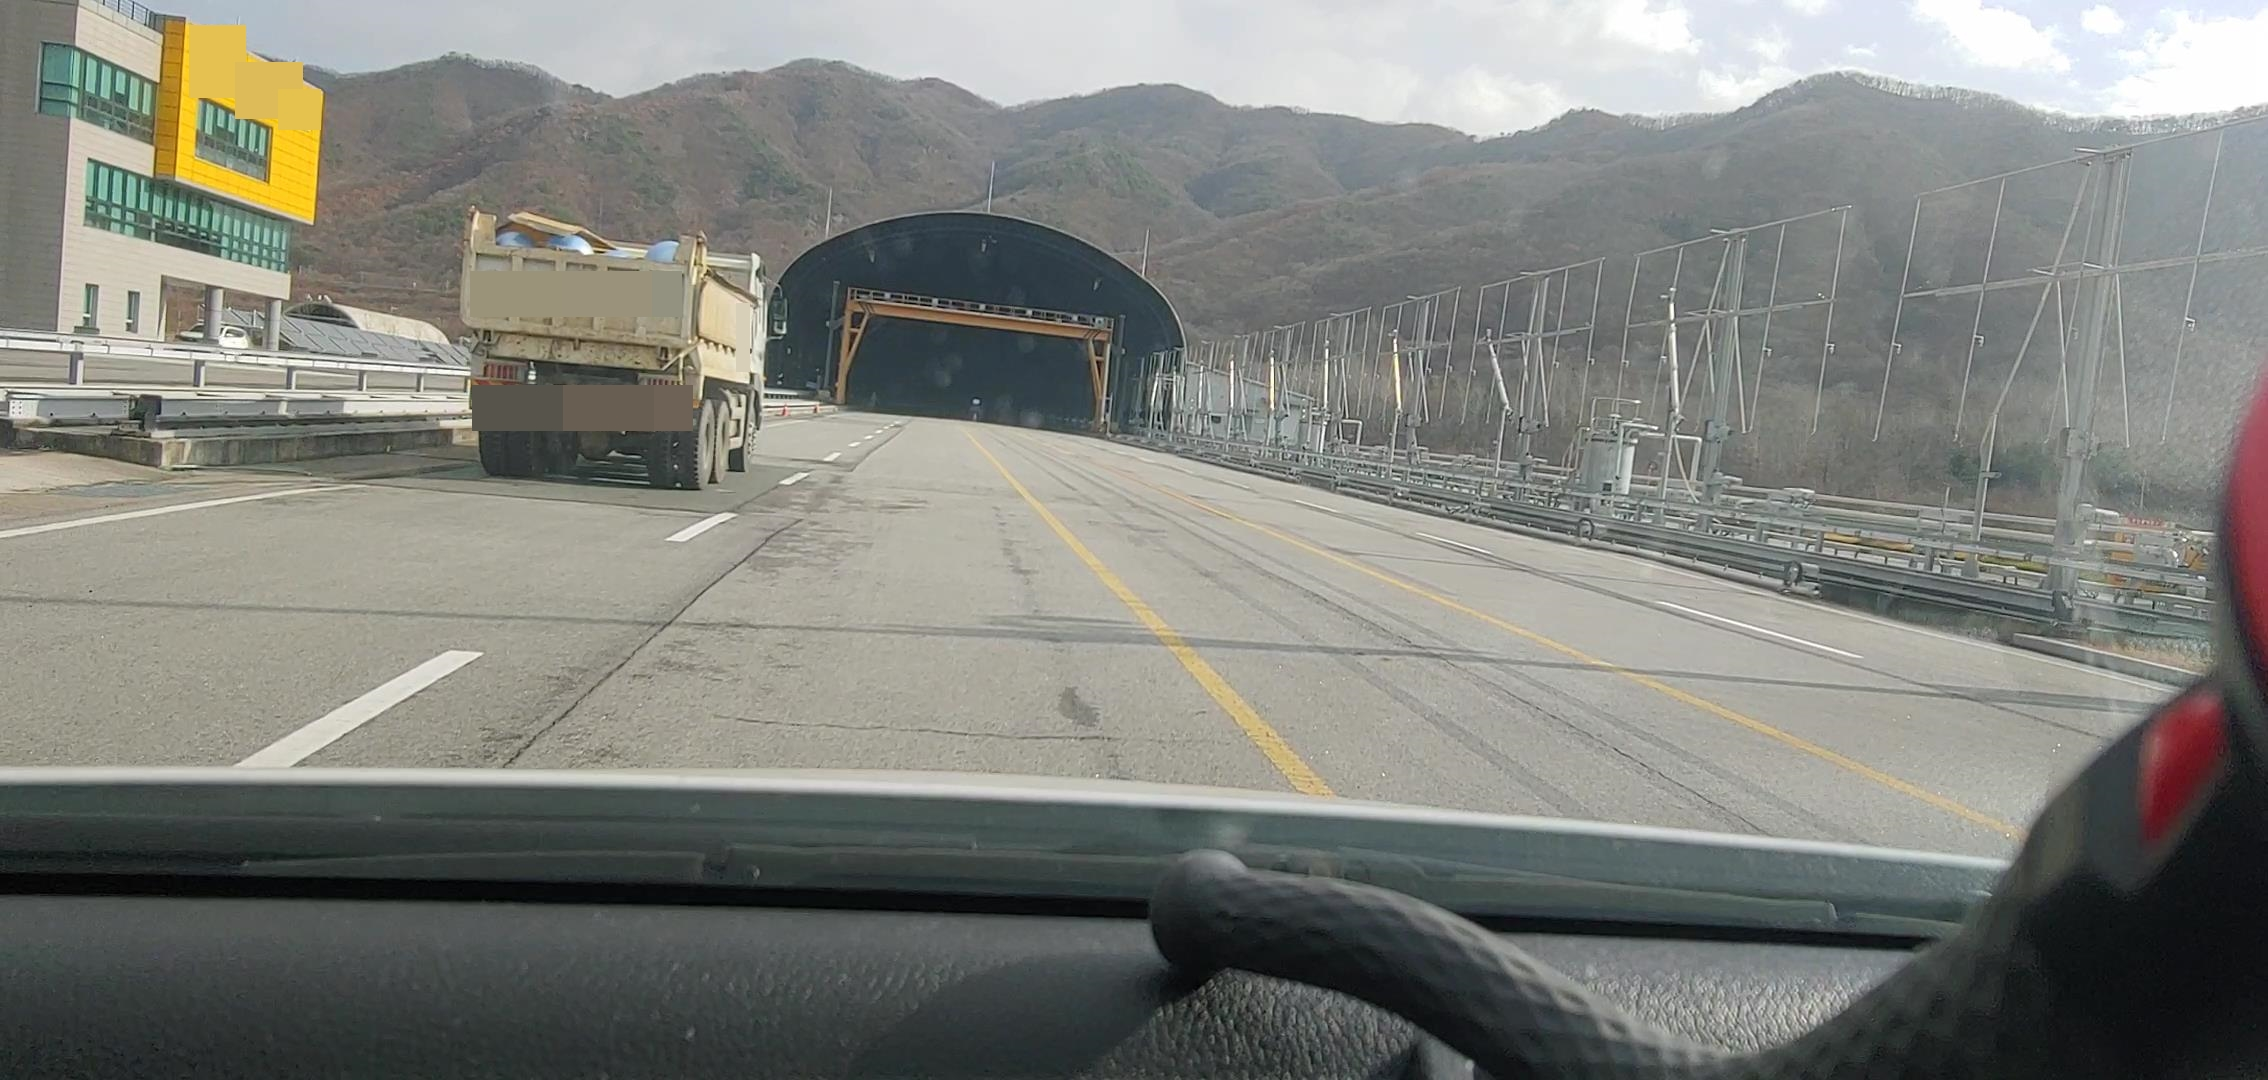불법차량: (459, 205, 787, 492)
